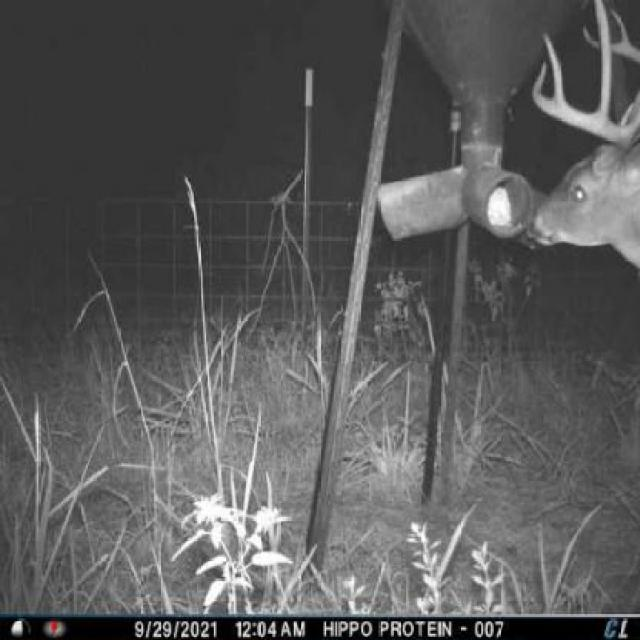Deer: (522, 0, 640, 283)
